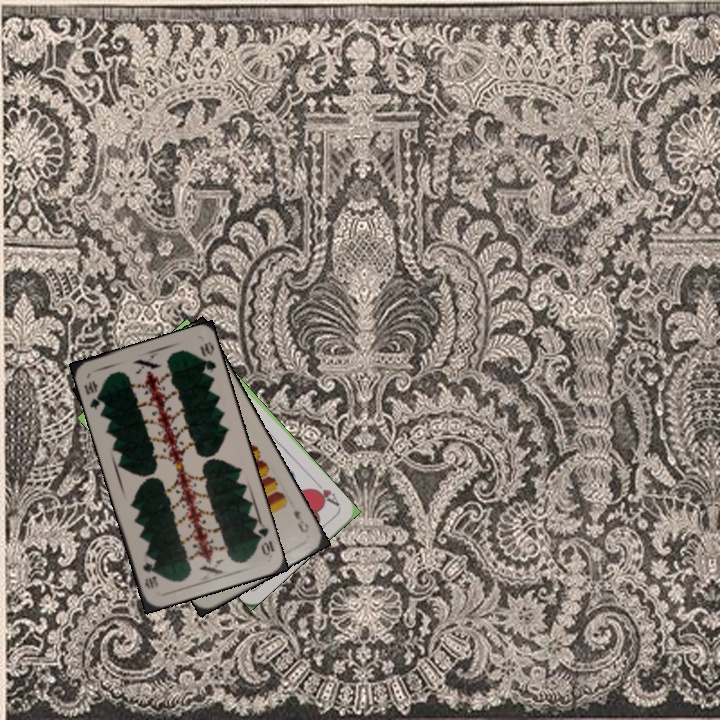E9: (290, 506, 311, 535)
G10: (250, 518, 277, 558), (80, 377, 105, 412)
HA: (309, 484, 342, 509)
